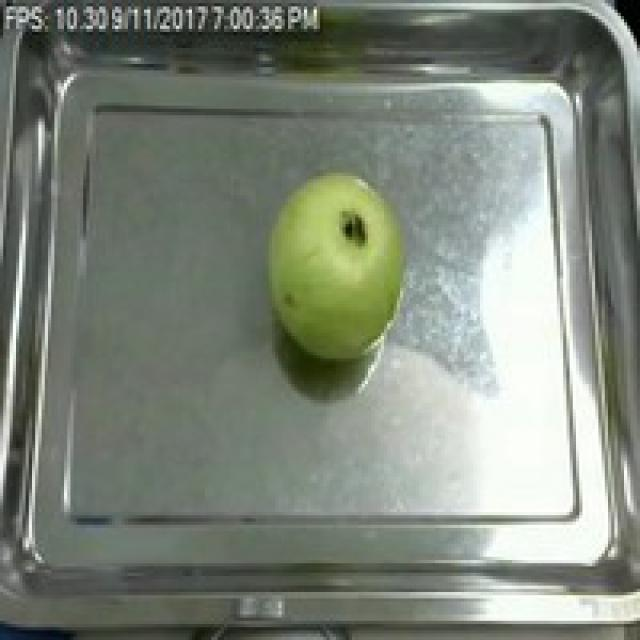Fruit: (253, 163, 416, 368)
